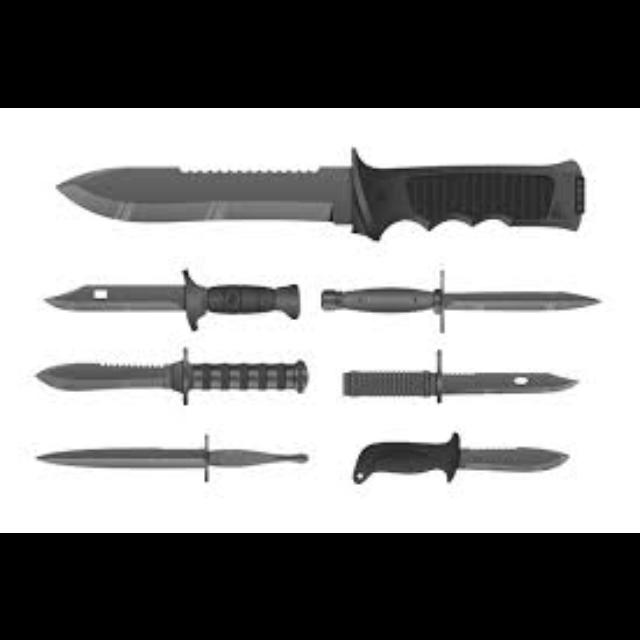Knife: (54, 144, 584, 240), (320, 268, 600, 330), (42, 266, 300, 330), (33, 345, 307, 405), (35, 433, 307, 481), (340, 350, 580, 402), (352, 431, 568, 484)
